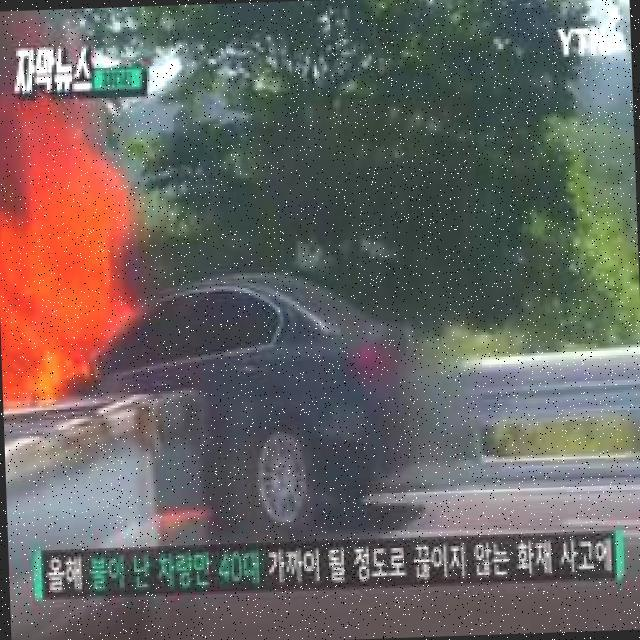Fire: (0, 90, 144, 408)
